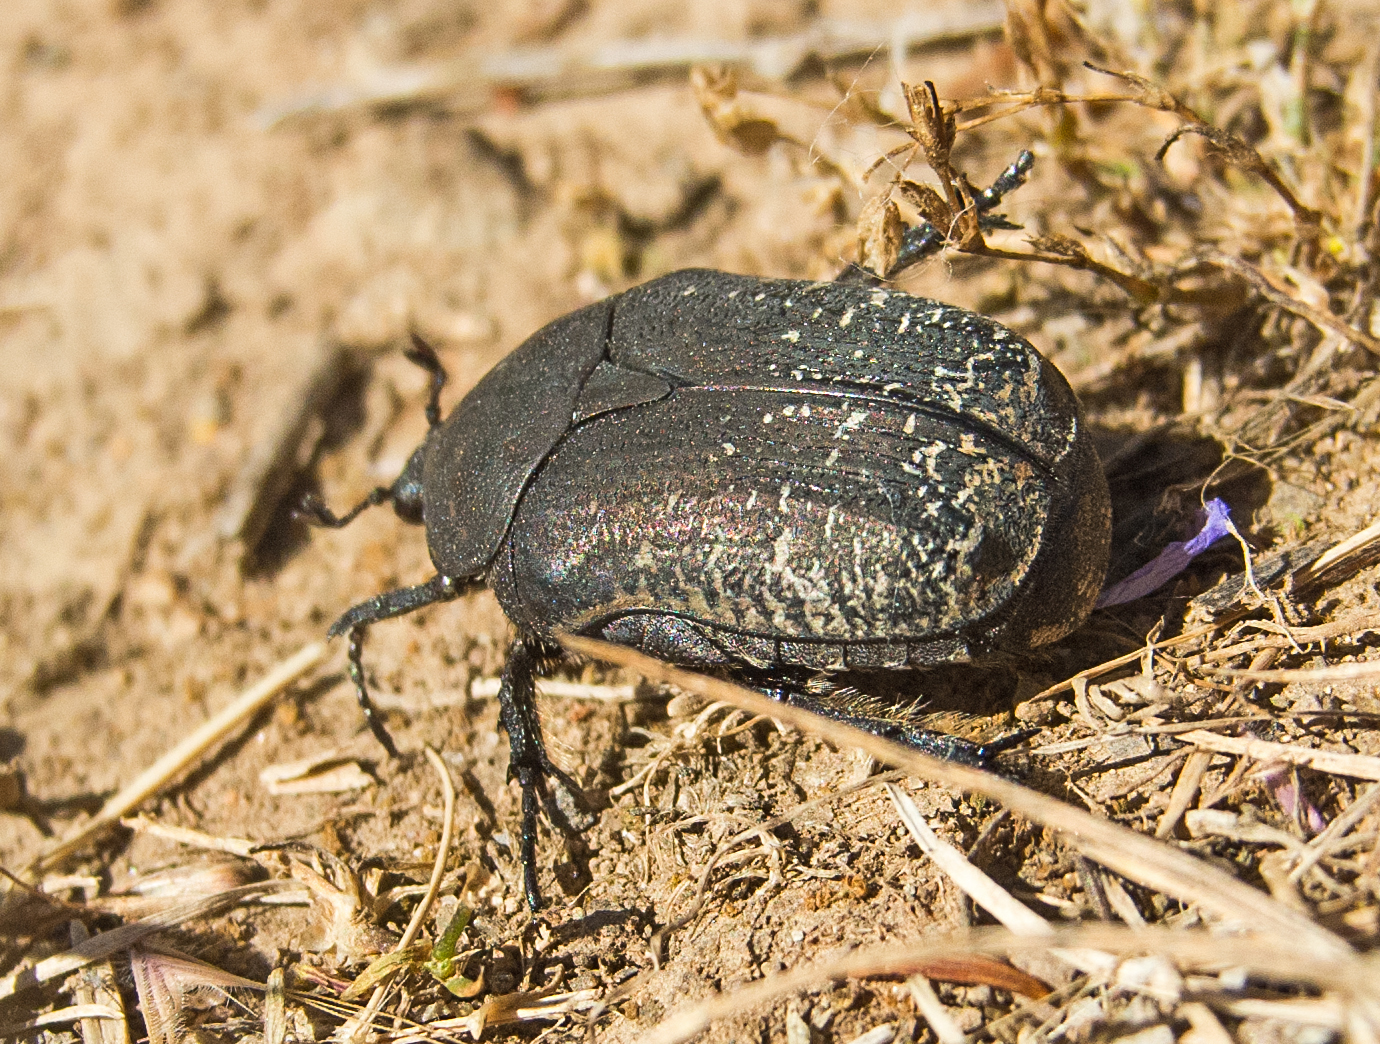Protaetia_vidua: (290, 143, 1121, 930)
